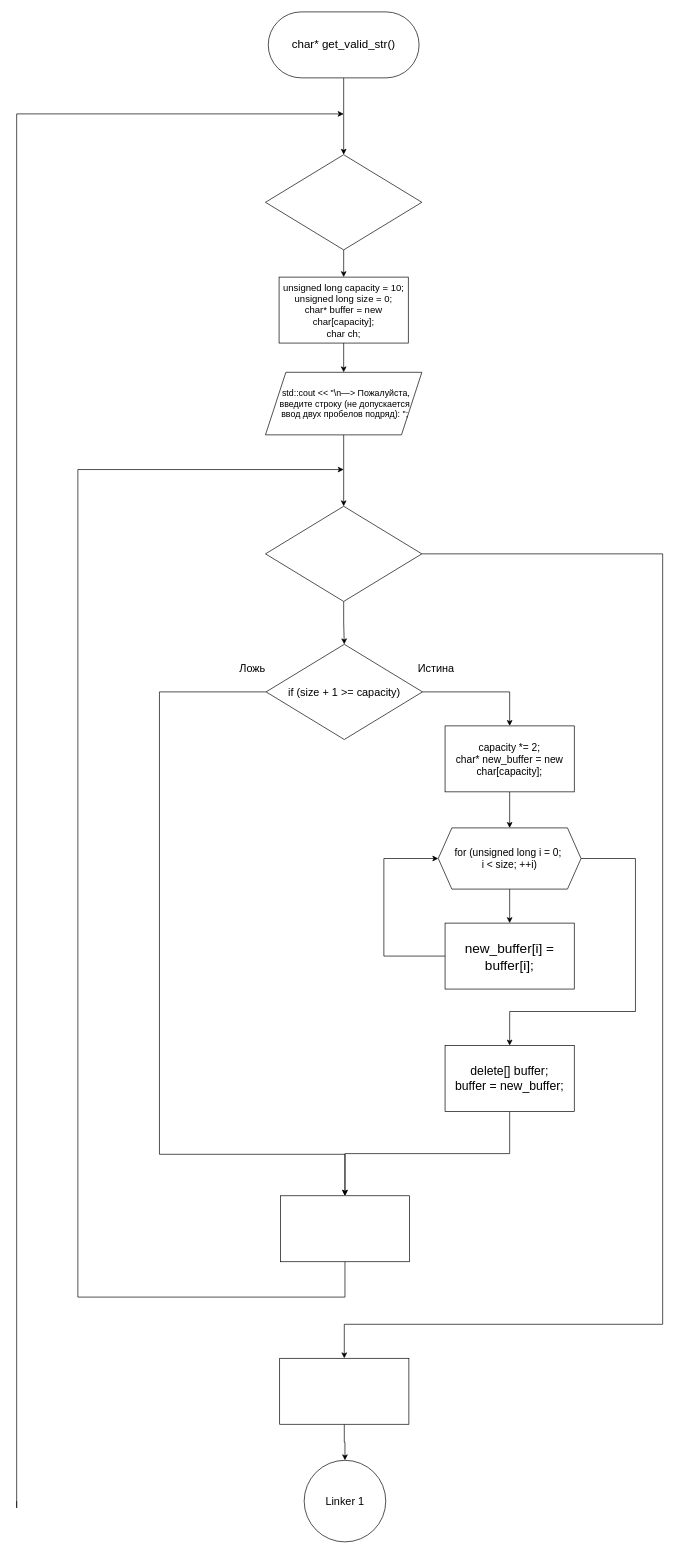
This 680x1554 diagram has some shape labels left out. The shapes that lost their labels are listed below. From the top down, each one's centre as x and y in pixels, then its label:
the point at 343,202: while true
the point at 343,553: while (std::cin.get(ch) && ch != '\n')
the point at 345,1228: buffer[size++] = ch;
the point at 344,1391: buffer[size] = '\0';
